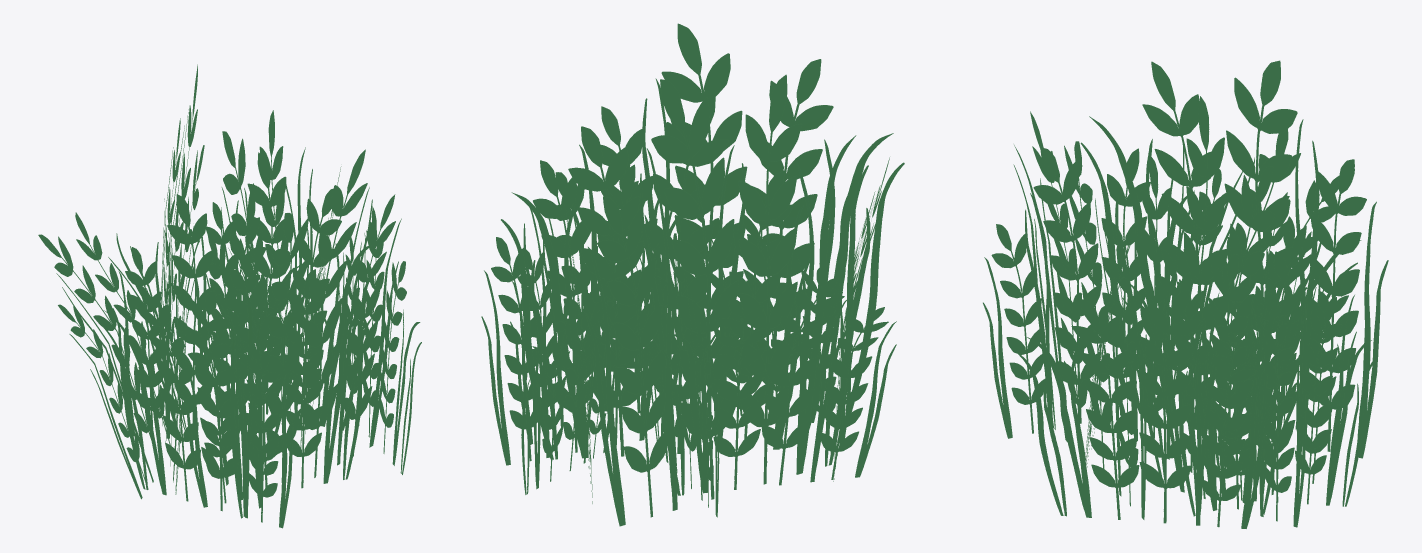
The model's file is MEADOW_SM_Grass_03_02.gltf.
3 views of the same model, side by side, from view 1: azimuth 30°, elevation 25°; view 2: azimuth 150°, elevation 25°; view 3: azimuth 270°, elevation 25° (orthographic). The views are drawn at different scales.
Parts seen in each view (by area): view 1: SM_Grass_03_02_LOD0; view 2: SM_Grass_03_02_LOD0; view 3: SM_Grass_03_02_LOD0.
Boxes of the visible parts, left/top/right/bottom form: SM_Grass_03_02_LOD0: left=38, top=64, right=421, bottom=528; SM_Grass_03_02_LOD0: left=481, top=23, right=904, bottom=526; SM_Grass_03_02_LOD0: left=983, top=60, right=1388, bottom=528.
Size of the model in its own units: 0.6723 by 0.6301 by 0.6388.
1 material, 1 textured.
